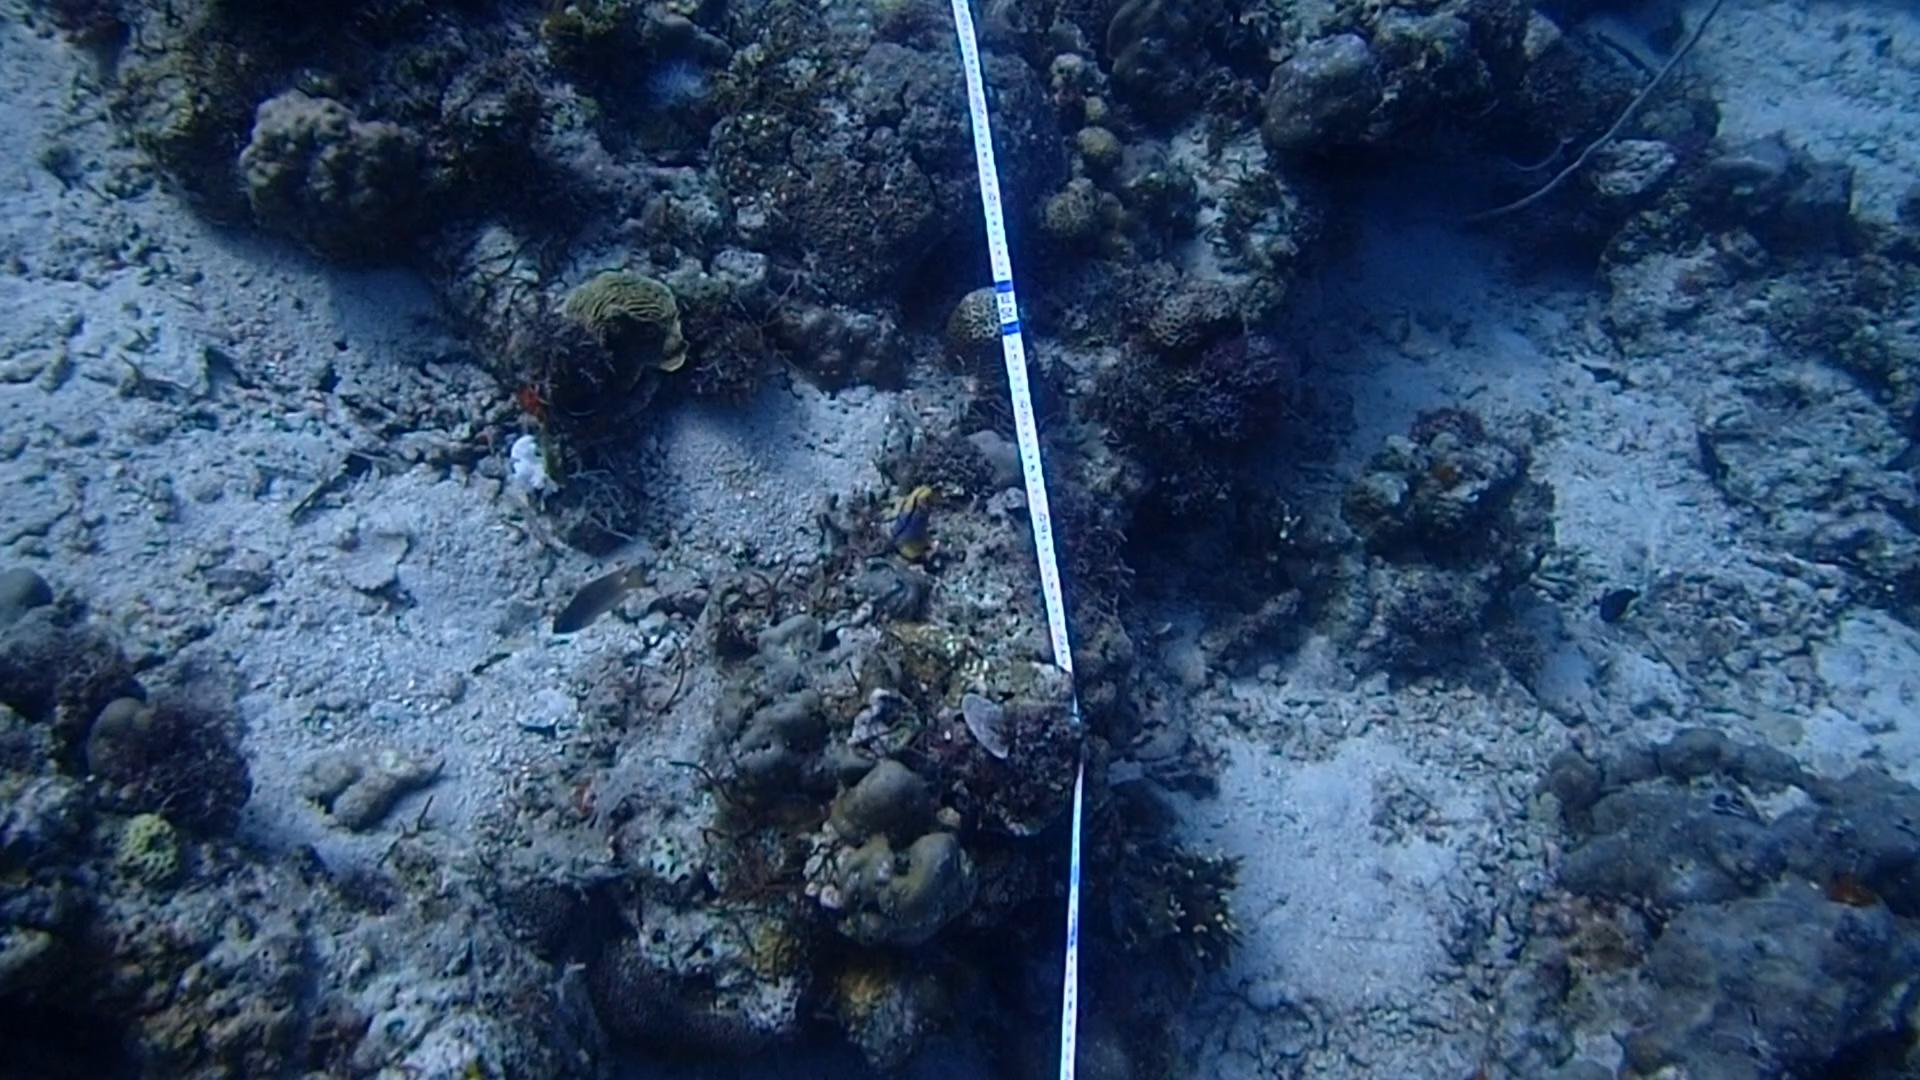Dark Fish: (1596, 582, 1643, 637)
Light Fish: (546, 555, 647, 649)
